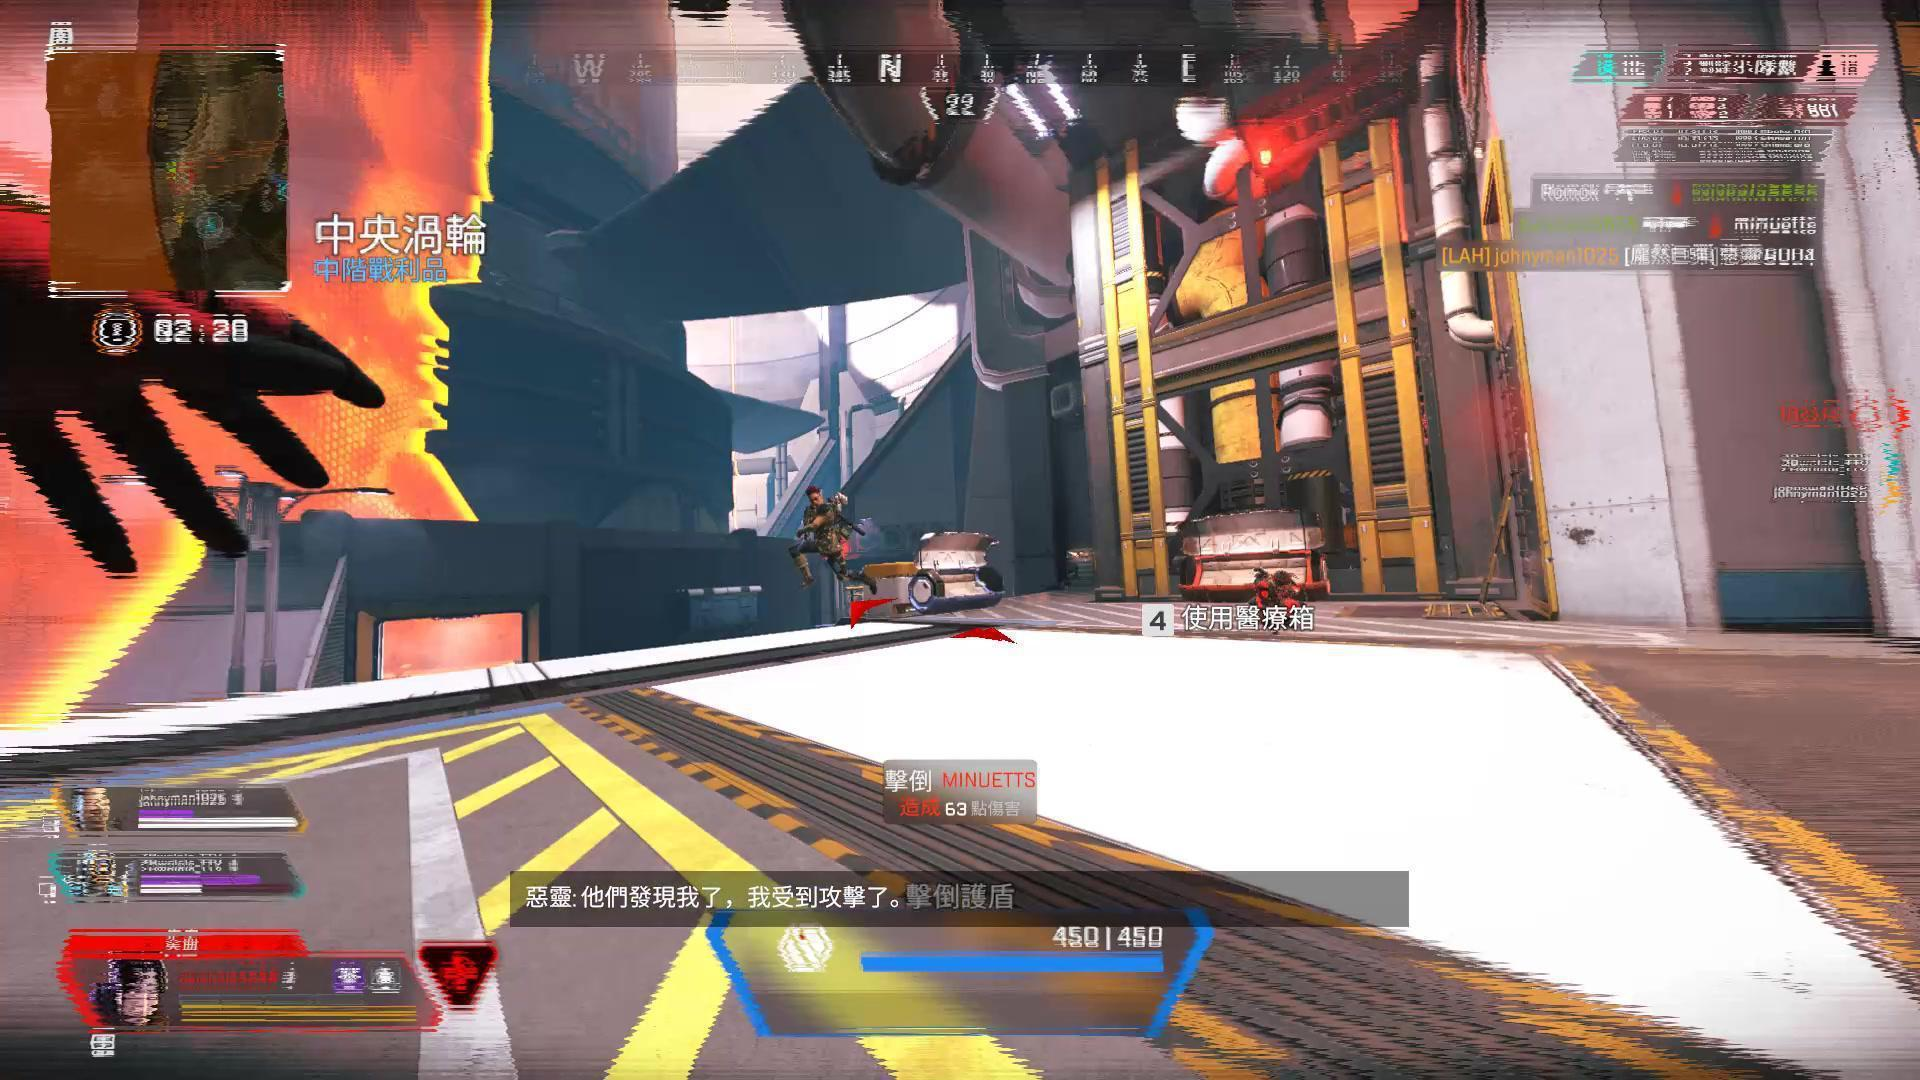avatar: (789, 485, 853, 591)
